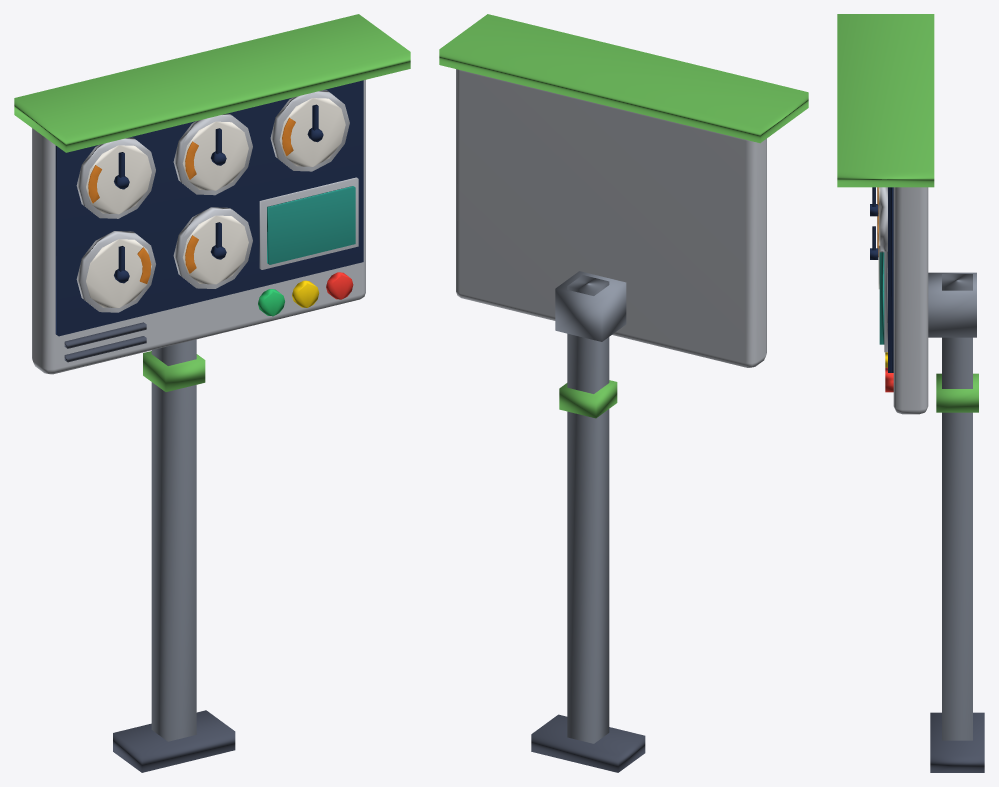
File: Fx_SeatMonitor_LifeSupport.glb
3 views of the same model, side by side, from view 1: azimuth 30°, elevation 25°; view 2: azimuth 150°, elevation 25°; view 3: azimuth 270°, elevation 25° (orthographic). The views are drawn at different scales.
Parts seen in each view (by area): view 1: Fx_SeatMonitor_LifeSupport.Frame, Fx_SeatMonitor_LifeSupport.Hood, Fx_SeatMonitor_LifeSupport.Dials, Fx_SeatMonitor_LifeSupport.Stand, Fx_SeatMonitor_LifeSupport.MonScreen; view 2: Fx_SeatMonitor_LifeSupport.Frame, Fx_SeatMonitor_LifeSupport.Stand, Fx_SeatMonitor_LifeSupport.Hood; view 3: Fx_SeatMonitor_LifeSupport.Stand, Fx_SeatMonitor_LifeSupport.Hood, Fx_SeatMonitor_LifeSupport.Frame, Fx_SeatMonitor_LifeSupport.Dials, Fx_SeatMonitor_LifeSupport.MonScreen.
Part boxes in pixels (x1,y1,x2,y2): Fx_SeatMonitor_LifeSupport.Frame: (32, 80, 365, 374); Fx_SeatMonitor_LifeSupport.Hood: (14, 14, 410, 152); Fx_SeatMonitor_LifeSupport.Dials: (76, 90, 349, 312); Fx_SeatMonitor_LifeSupport.Stand: (113, 339, 235, 772); Fx_SeatMonitor_LifeSupport.MonScreen: (267, 186, 355, 264); Fx_SeatMonitor_LifeSupport.Frame: (456, 69, 766, 367); Fx_SeatMonitor_LifeSupport.Stand: (531, 271, 645, 772); Fx_SeatMonitor_LifeSupport.Hood: (439, 14, 808, 143); Fx_SeatMonitor_LifeSupport.Stand: (928, 272, 984, 772); Fx_SeatMonitor_LifeSupport.Hood: (837, 14, 934, 187); Fx_SeatMonitor_LifeSupport.Frame: (884, 187, 928, 414); Fx_SeatMonitor_LifeSupport.Dials: (877, 187, 887, 289); Fx_SeatMonitor_LifeSupport.MonScreen: (879, 252, 884, 344).
Bounding box in the file's own units: 0.96 × 1.87 × 0.38.
1 material, 1 textured.
